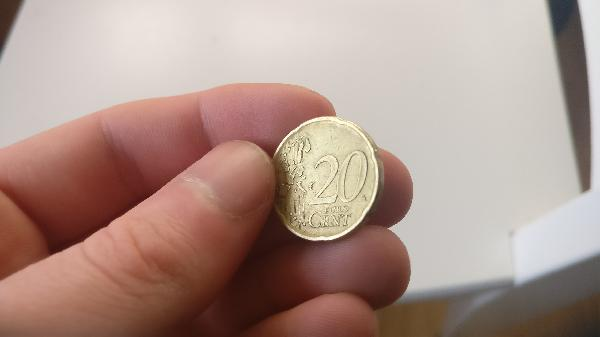Twenty Cent: (266, 117, 386, 247)
